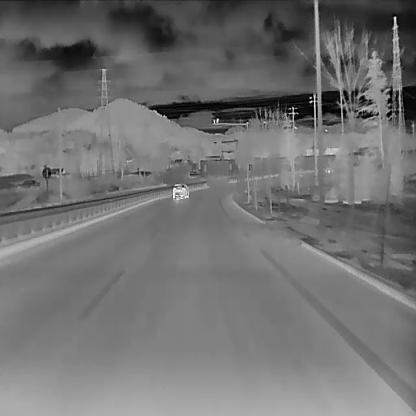car: (172, 183, 189, 198)
